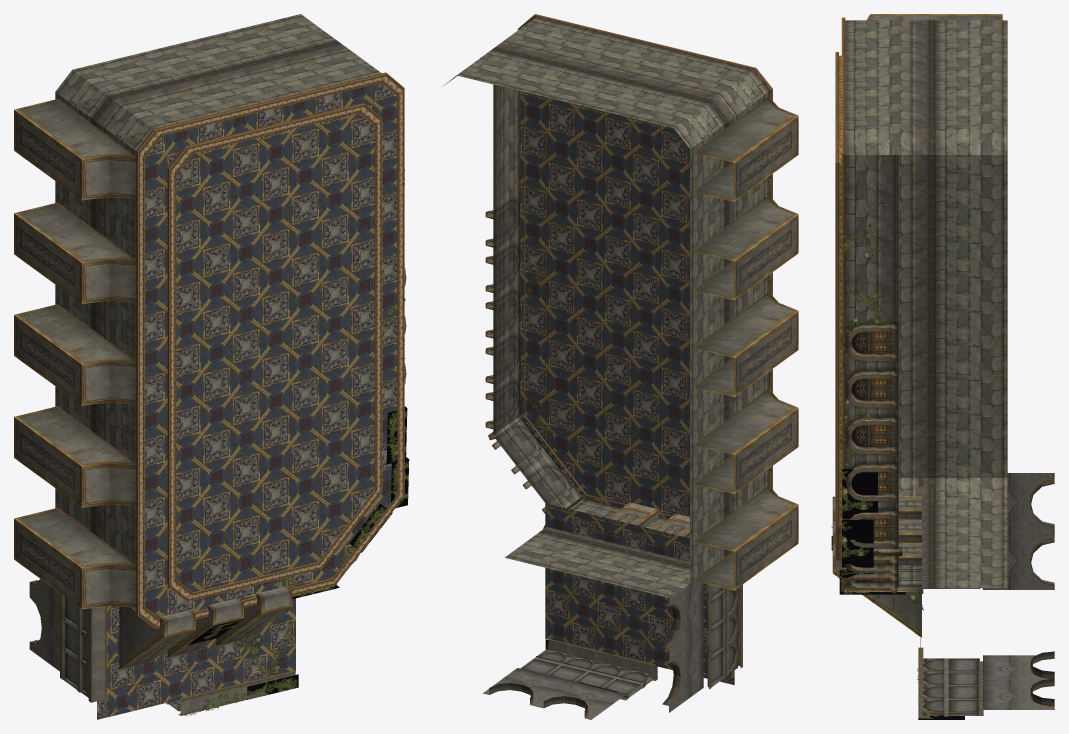
File: zhucheng_yewai_291_huanggong_01_f.obj
The picture shows the model from 3 angles, left to right: view 1: azimuth 30°, elevation 25°; view 2: azimuth 150°, elevation 25°; view 3: azimuth 270°, elevation 25°; orthographic projection. The views are drawn at different scales.
Visible parts, largest first — view 1: zhucheng_yewai_291_huanggong_01_f, zhucheng_yewai_291_huanggong_01_f_zhiwu; view 2: zhucheng_yewai_291_huanggong_01_f, zhucheng_yewai_291_huanggong_01_f_zhiwu; view 3: zhucheng_yewai_291_huanggong_01_f, zhucheng_yewai_291_huanggong_01_f_zhiwu.
Boxes of the visible parts, bbox=[...] form: zhucheng_yewai_291_huanggong_01_f: bbox=[14, 14, 406, 719]; zhucheng_yewai_291_huanggong_01_f_zhiwu: bbox=[162, 166, 409, 715]; zhucheng_yewai_291_huanggong_01_f: bbox=[442, 14, 798, 719]; zhucheng_yewai_291_huanggong_01_f_zhiwu: bbox=[520, 104, 621, 692]; zhucheng_yewai_291_huanggong_01_f: bbox=[832, 14, 1054, 718]; zhucheng_yewai_291_huanggong_01_f_zhiwu: bbox=[831, 223, 964, 719].
Size of the model in its own units: 1296 by 2519 by 828.
Materials: 13 (13 with a texture image).
